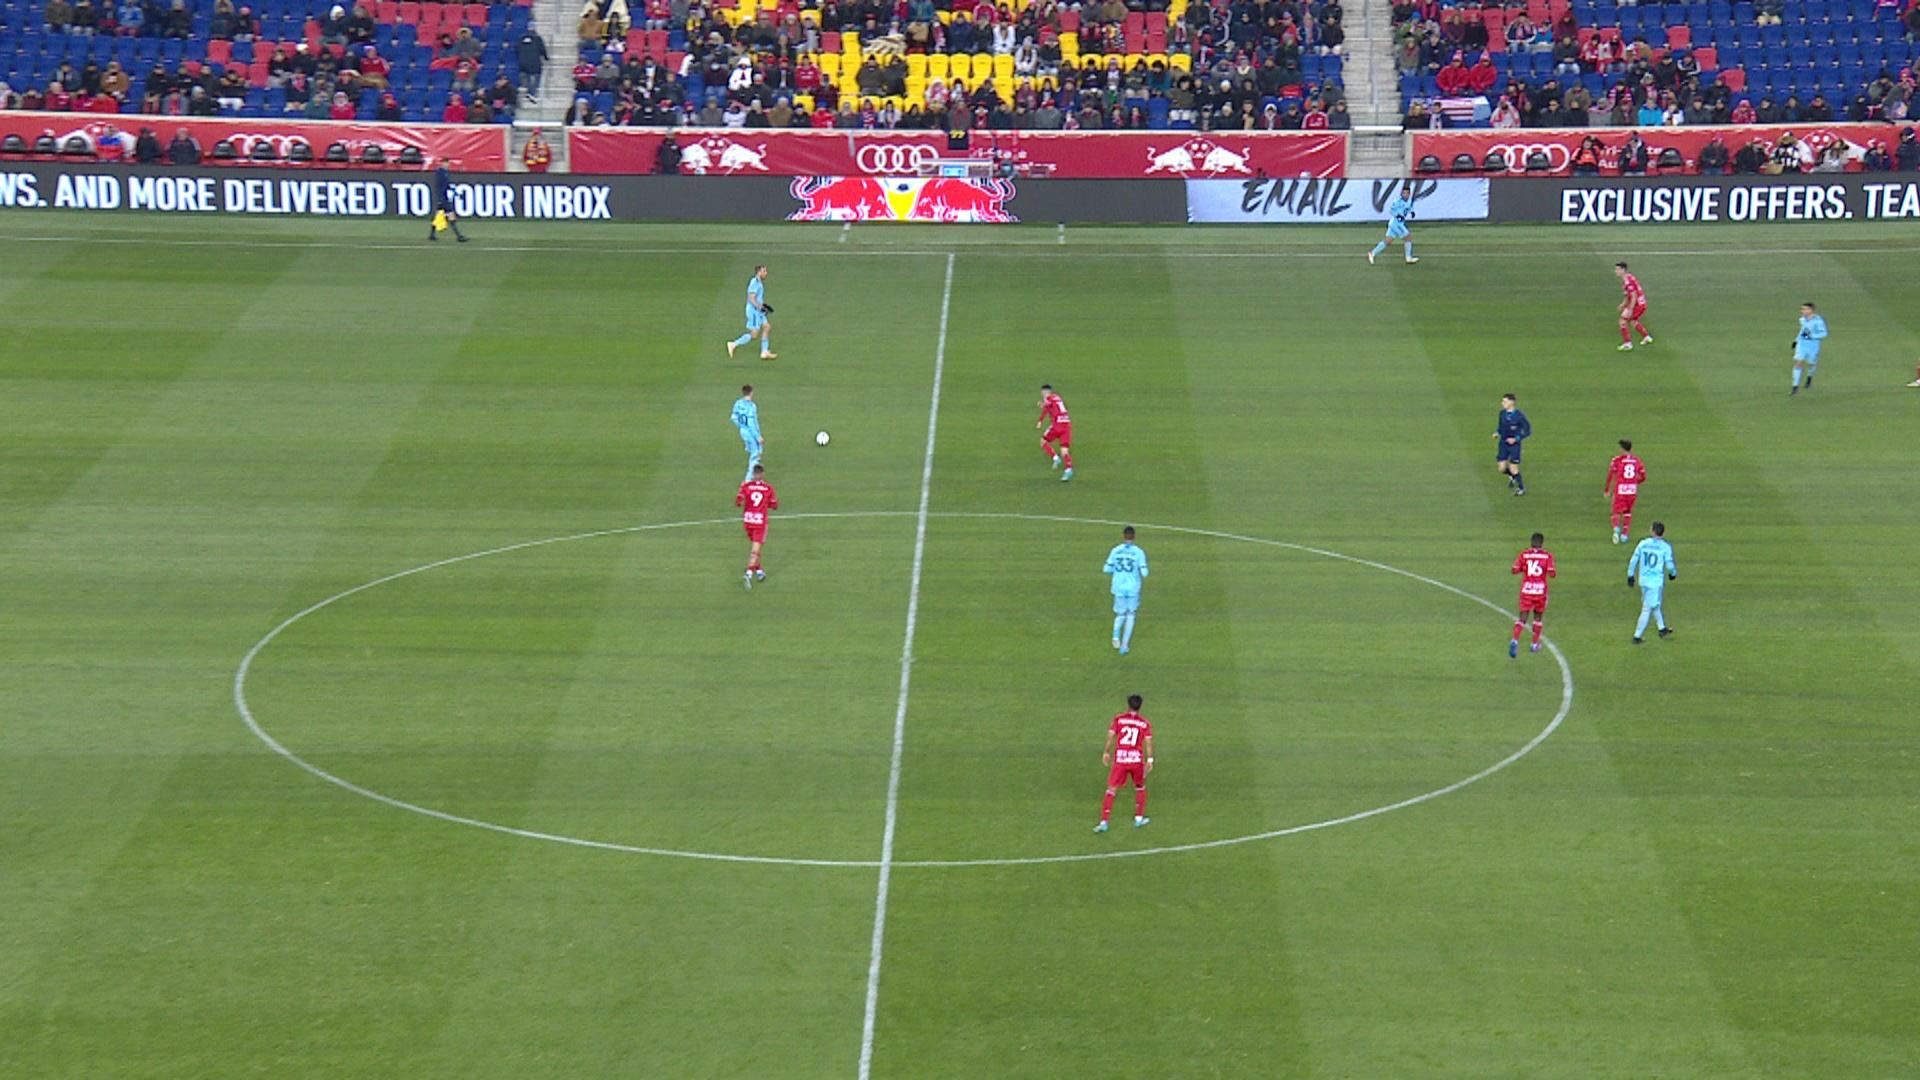football: (815, 430, 831, 447)
